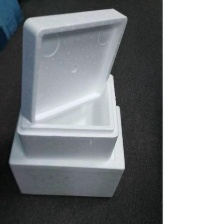foam_box: (17, 4, 131, 128), (5, 101, 128, 200), (13, 67, 121, 163)
